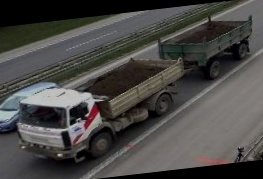truck: (10, 13, 262, 169)
